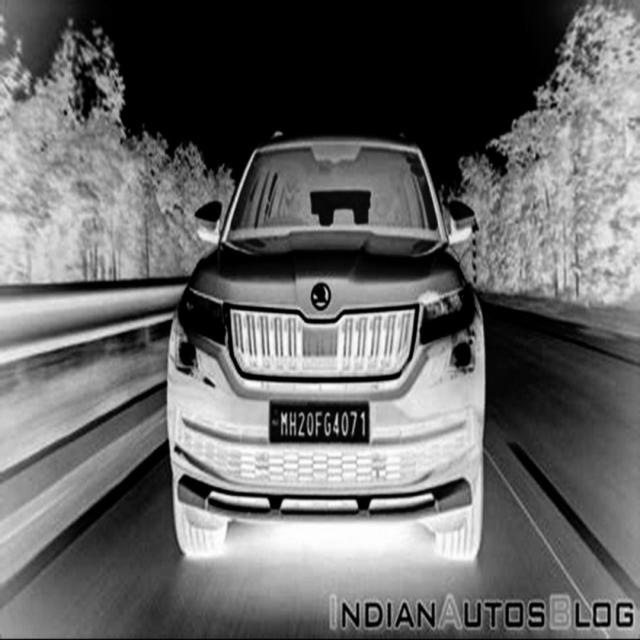0: (340, 410, 350, 439), (307, 410, 314, 440)
1: (359, 408, 366, 439)
2: (298, 410, 306, 440)
4: (333, 413, 339, 436)
7: (350, 410, 359, 437)
F: (315, 409, 324, 436)
G: (323, 411, 332, 438)
H: (290, 409, 298, 436)
IND: (270, 406, 280, 439)
Indian_registered: (270, 402, 369, 442)
M: (280, 410, 289, 436)
